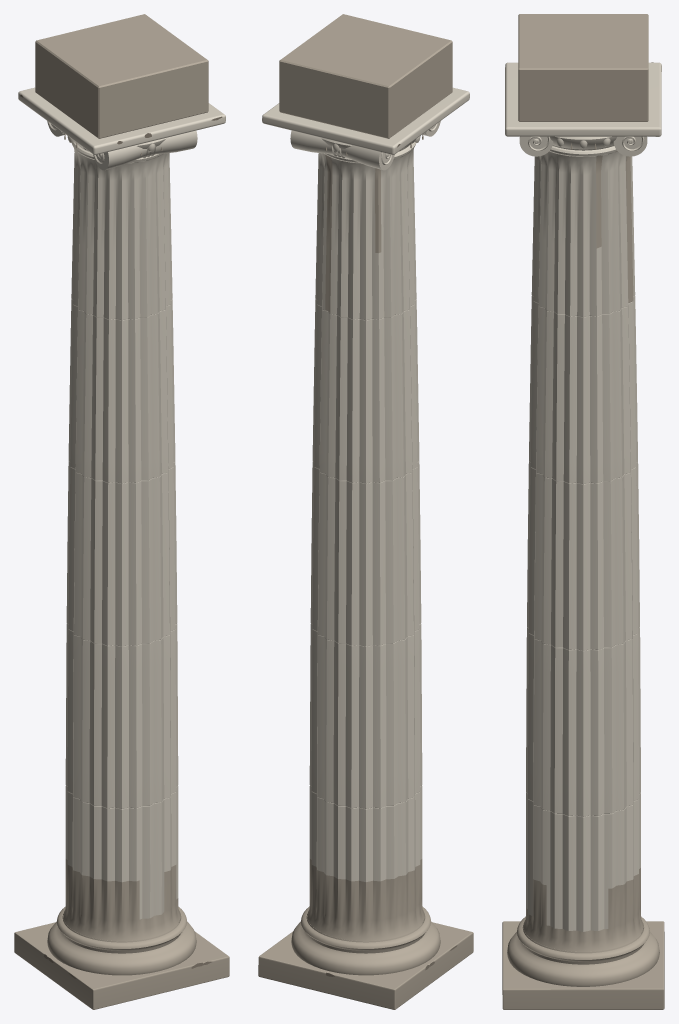
Rendered from column_greek.glb.
The picture shows the model from 3 angles, left to right: view 1: azimuth 30°, elevation 25°; view 2: azimuth 150°, elevation 25°; view 3: azimuth 270°, elevation 25°; orthographic projection. The views are drawn at different scales.
Parts seen in each view (by area): view 1: teil.001, teil; view 2: teil.001, teil; view 3: teil.001, teil.
Boxes of the visible parts, <box> form: teil.001: <box>18,87,225,919</box>; teil: <box>14,14,229,1009</box>; teil.001: <box>262,87,469,881</box>; teil: <box>258,14,473,1009</box>; teil.001: <box>505,62,661,931</box>; teil: <box>502,14,664,1009</box>.
Size of the model in its own units: 1.24 by 7.9 by 1.24.
